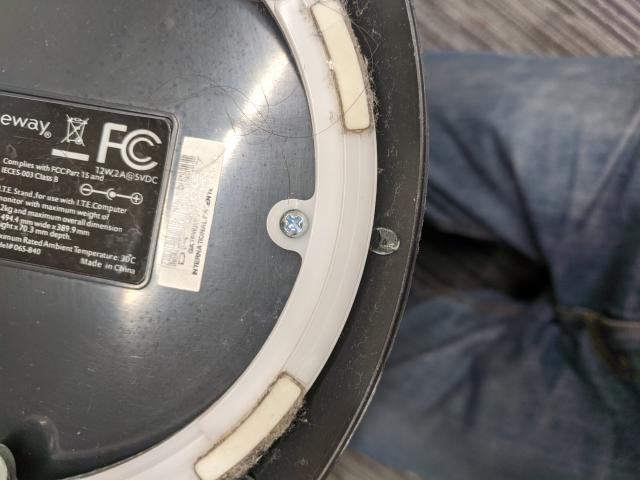CRS: (282, 211, 308, 236)
